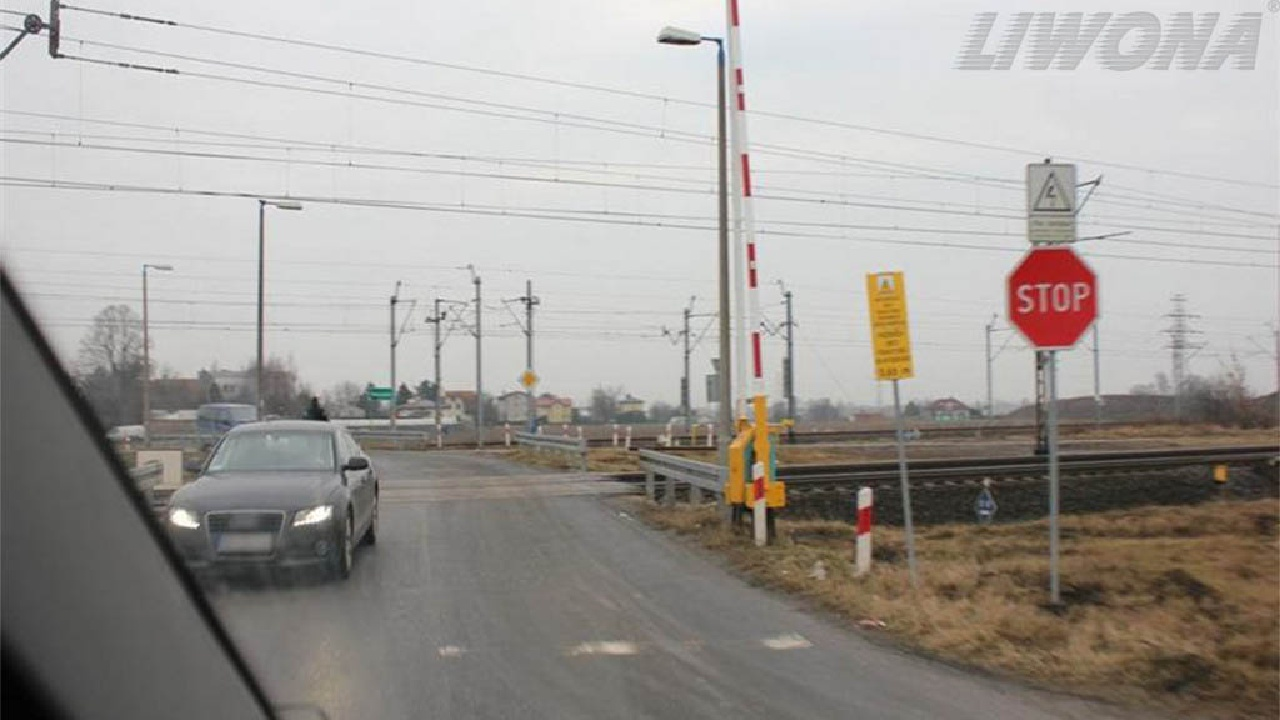B20: (1003, 245, 1101, 352)
